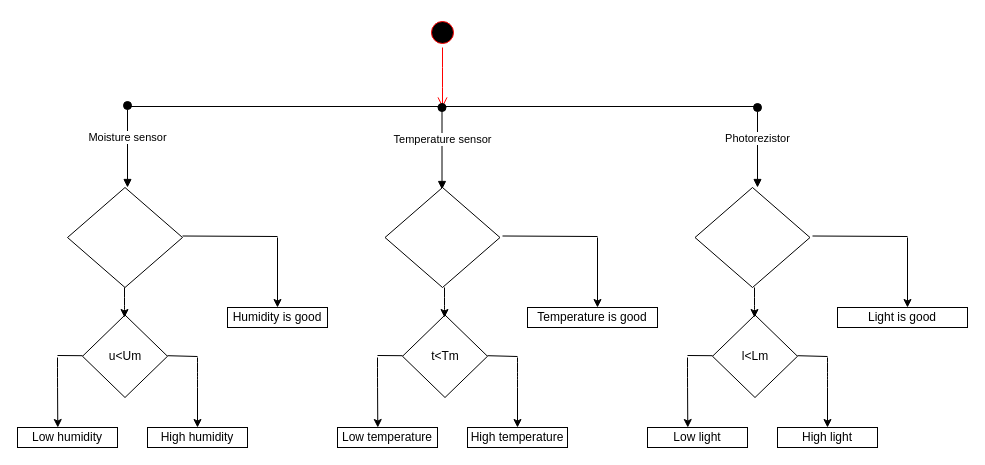
The diagram is 985 pixels wide and 465 high, and some of its shapes have lost their labels. Here are the shapes that lost their labels. From the top down, the centre of each, then its label:
pixel 124 237: u>=Um&&u<=UM
pixel 442 237: t>=Tm&&t<=TM
pixel 752 237: l>=Lm&&l<=LM
